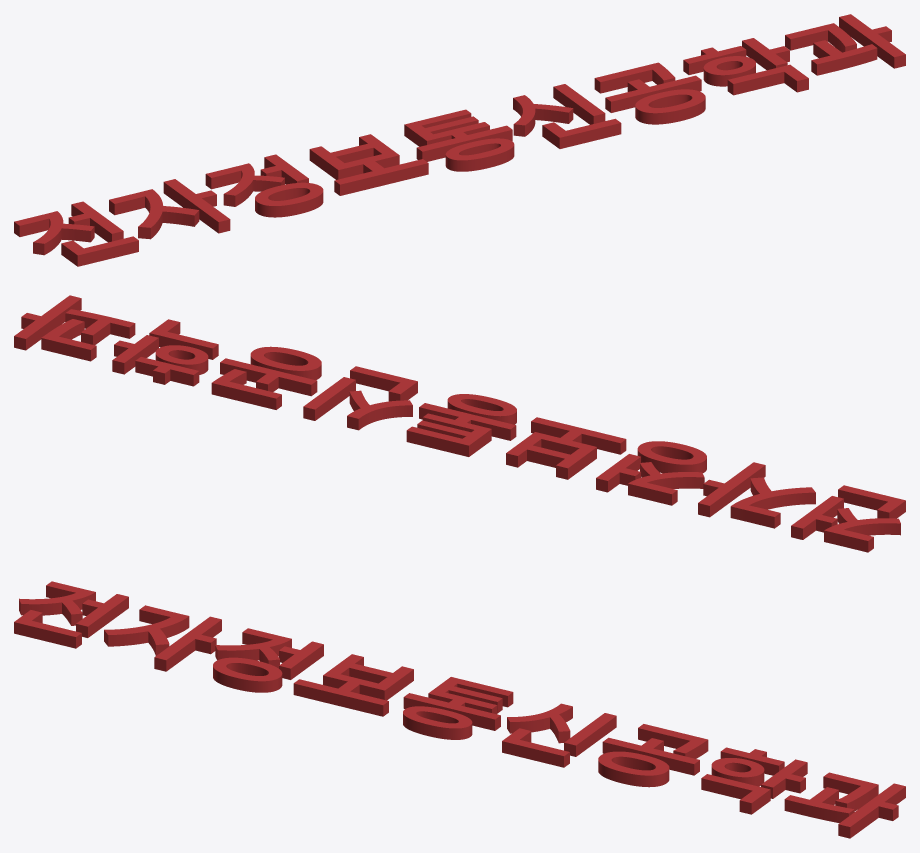
Rendered from true6.fbx.
The picture shows the model from 3 angles, top to bottom: view 1: azimuth 30°, elevation 25°; view 2: azimuth 150°, elevation 25°; view 3: azimuth 330°, elevation 25°; orthographic projection.
Visible parts, largest first — view 1: Text; view 2: Text; view 3: Text.
Part boxes in pixels (bbox=[...]): Text: bbox=[14, 14, 905, 266]; Text: bbox=[14, 295, 905, 552]; Text: bbox=[14, 581, 905, 838].
Bounding box in the file's own units: 688 × 8.69 × 77.52.
